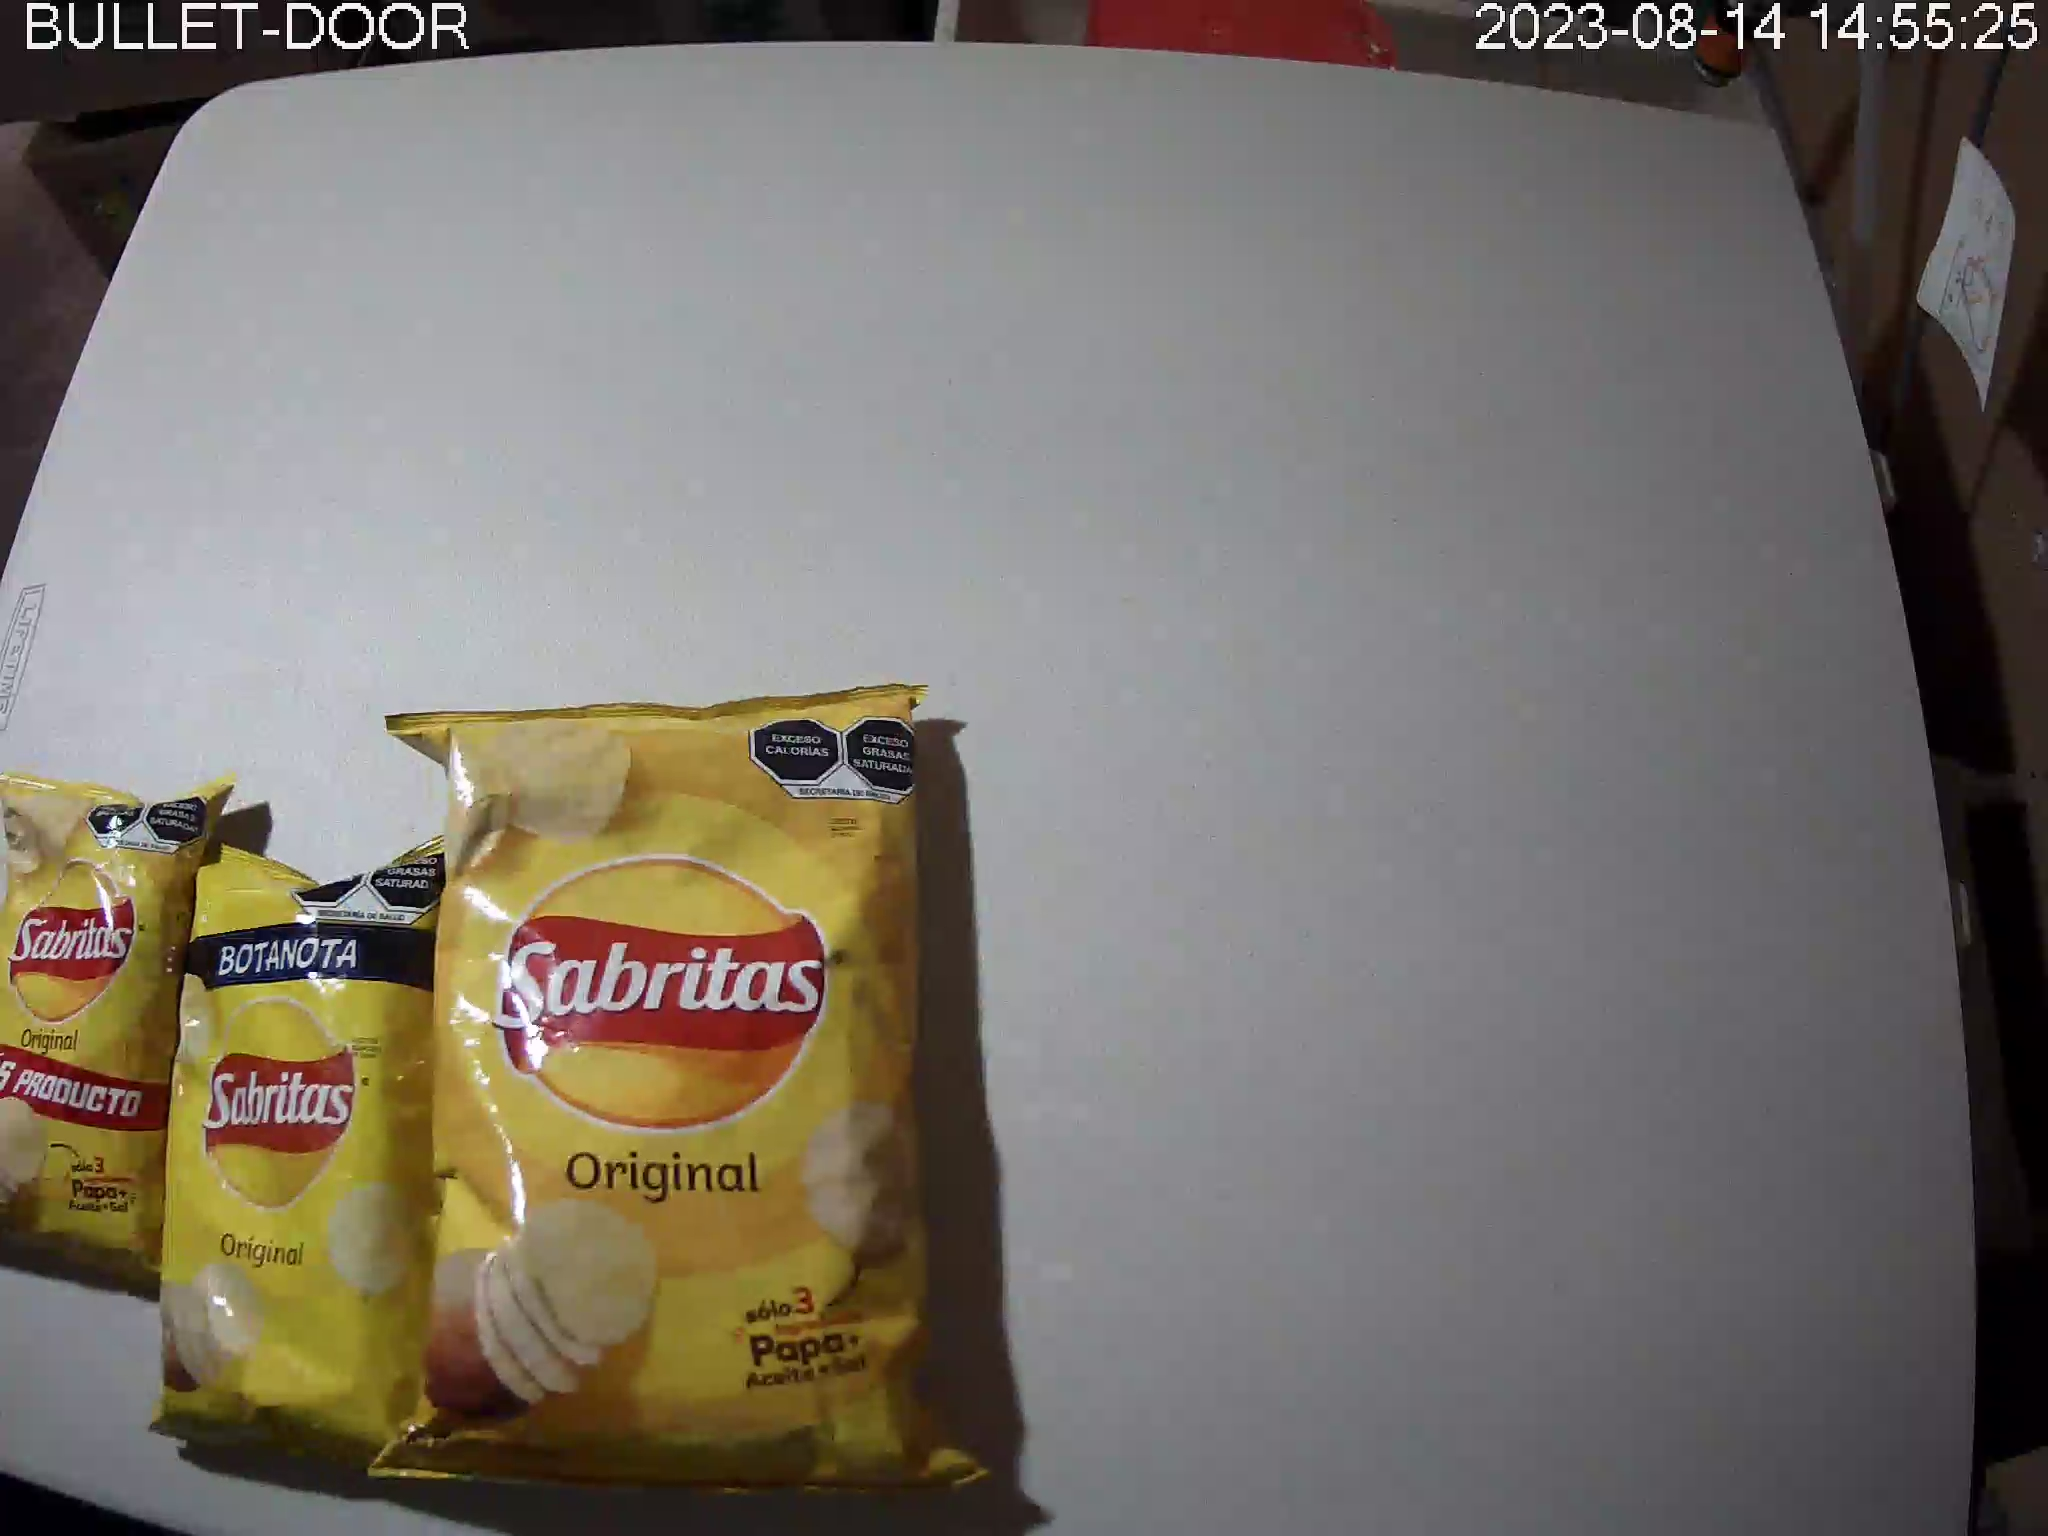Sabritas_160_F: (368, 682, 993, 1504)
Sabritas_45_F: (2, 771, 240, 1292)
Sabritas_64_F: (147, 828, 464, 1468)
